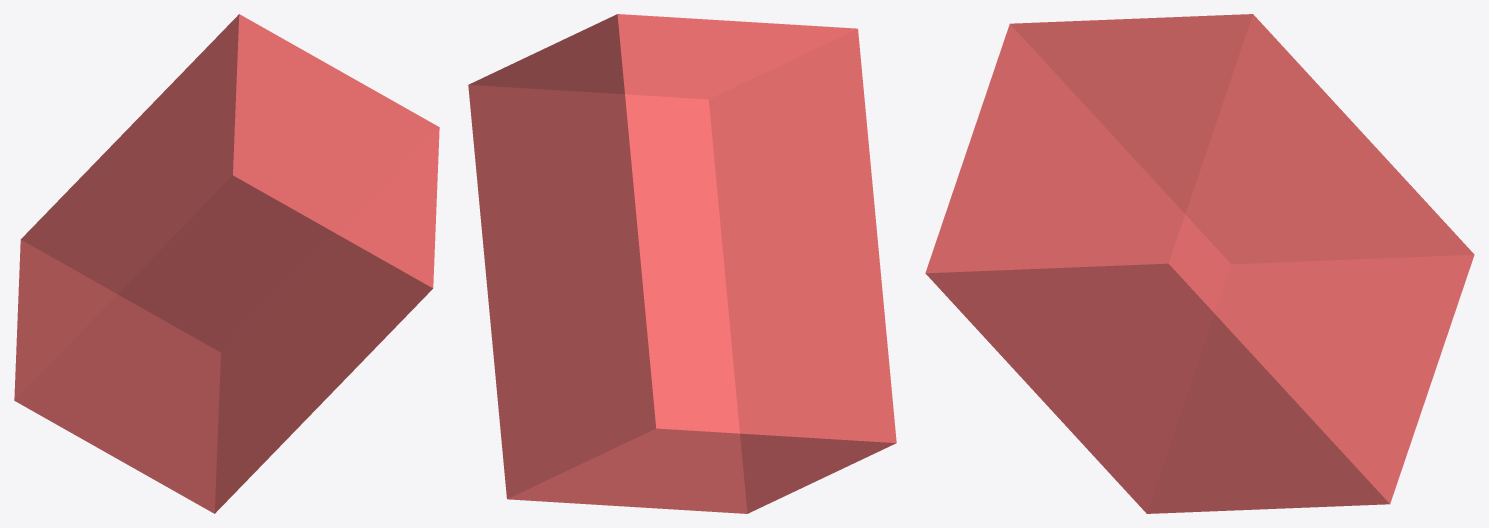
The picture shows the model from 3 angles, left to right: view 1: azimuth 30°, elevation 25°; view 2: azimuth 150°, elevation 25°; view 3: azimuth 270°, elevation 25°; orthographic projection. The views are drawn at different scales.
Parts seen in each view (by area): view 1: root; view 2: root; view 3: root.
Part boxes in pixels (x1,y1,x2,y2): root: [14, 14, 439, 513]; root: [468, 14, 896, 513]; root: [925, 14, 1474, 513].
Bounding box in the file's own units: 5.56 × 6 × 5.53.
